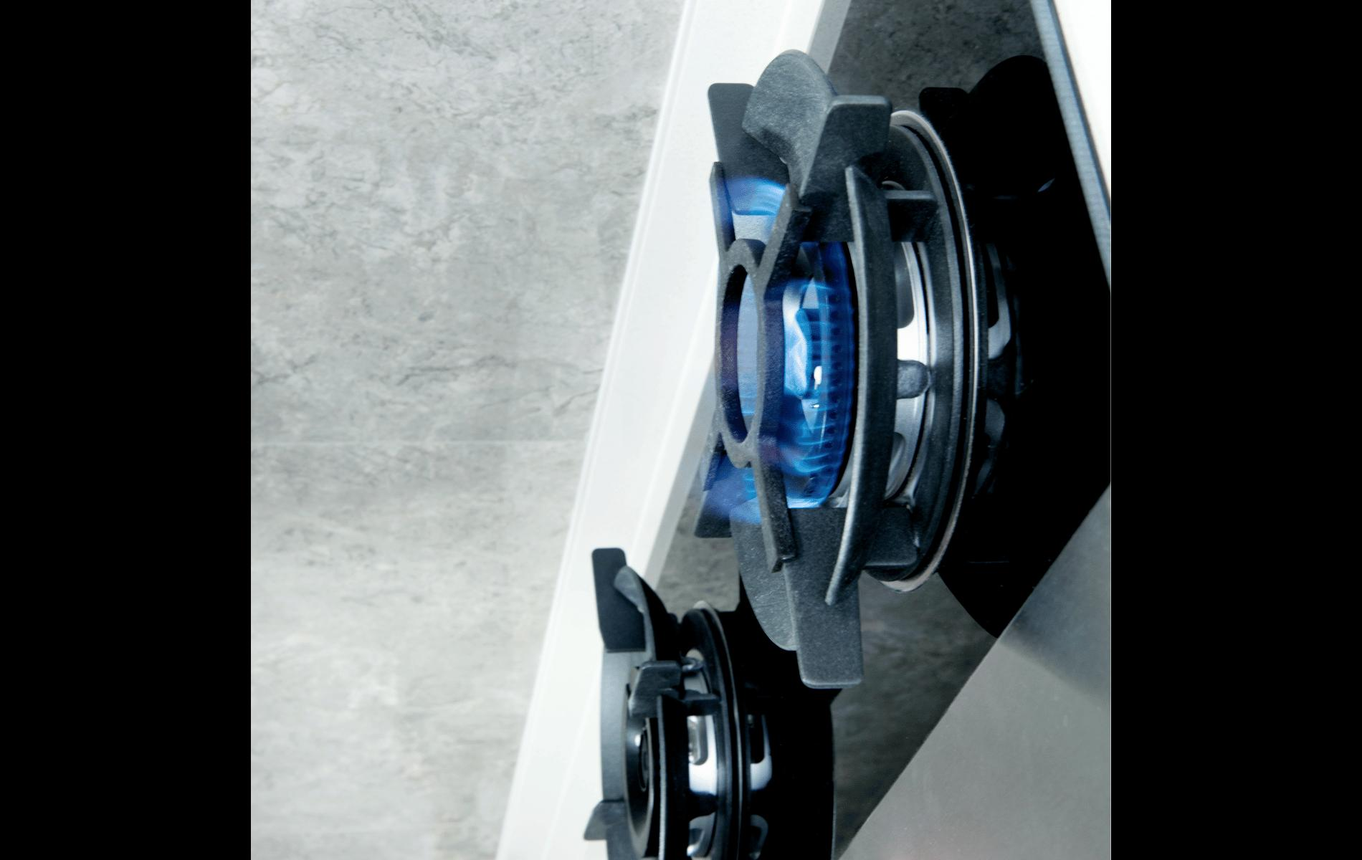controlled_fire: (654, 140, 947, 550)
